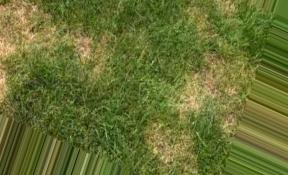patch: (193, 70, 249, 91), (6, 8, 37, 42), (147, 124, 165, 156), (174, 89, 201, 110), (77, 39, 92, 56)
